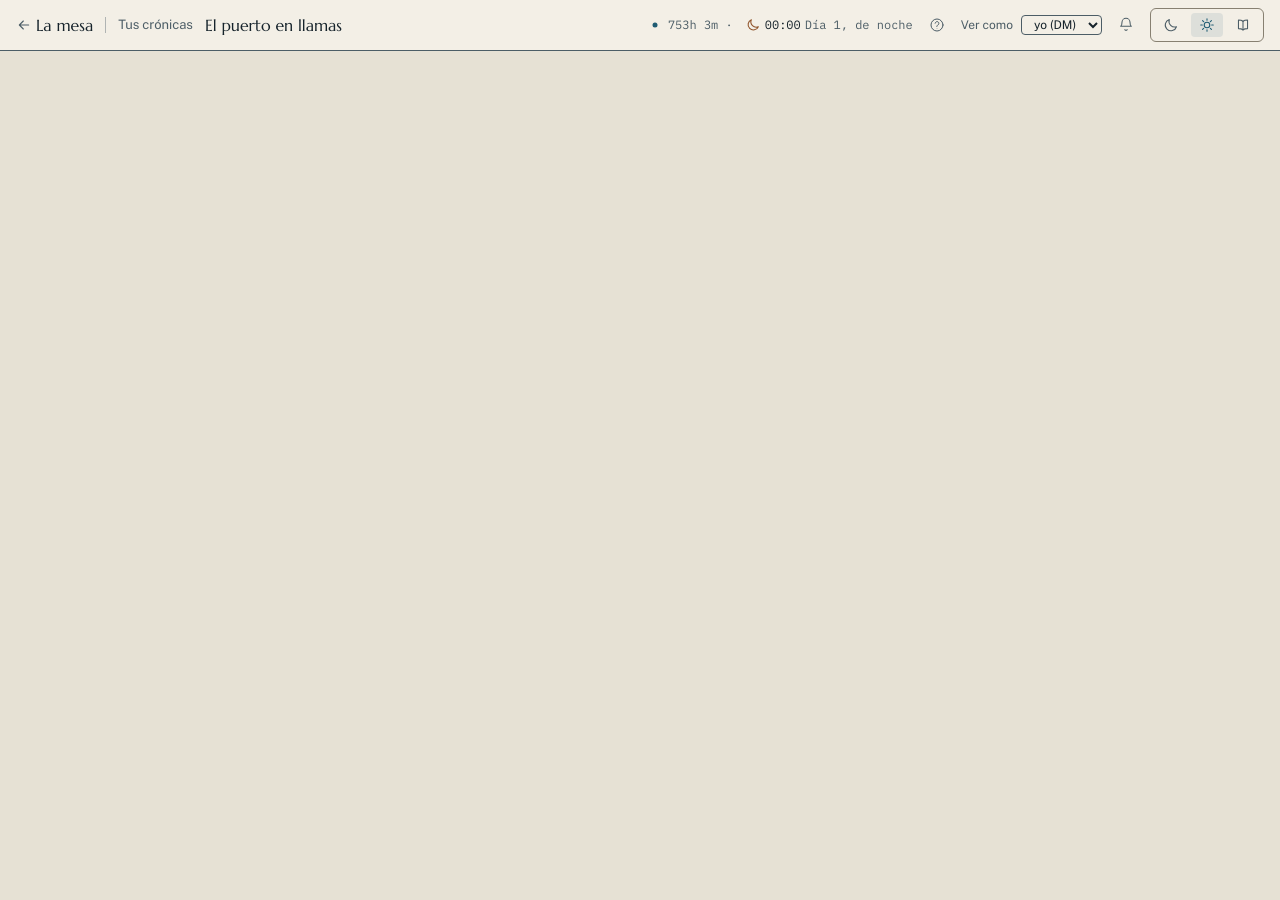
it: el diálogo de atajos › Escape lo cierra, como cualquier cajón
The width and height of the screenshot is (1280, 900).
Click the button named "Atajos de teclado": [937, 25] box [925,13,949,37]
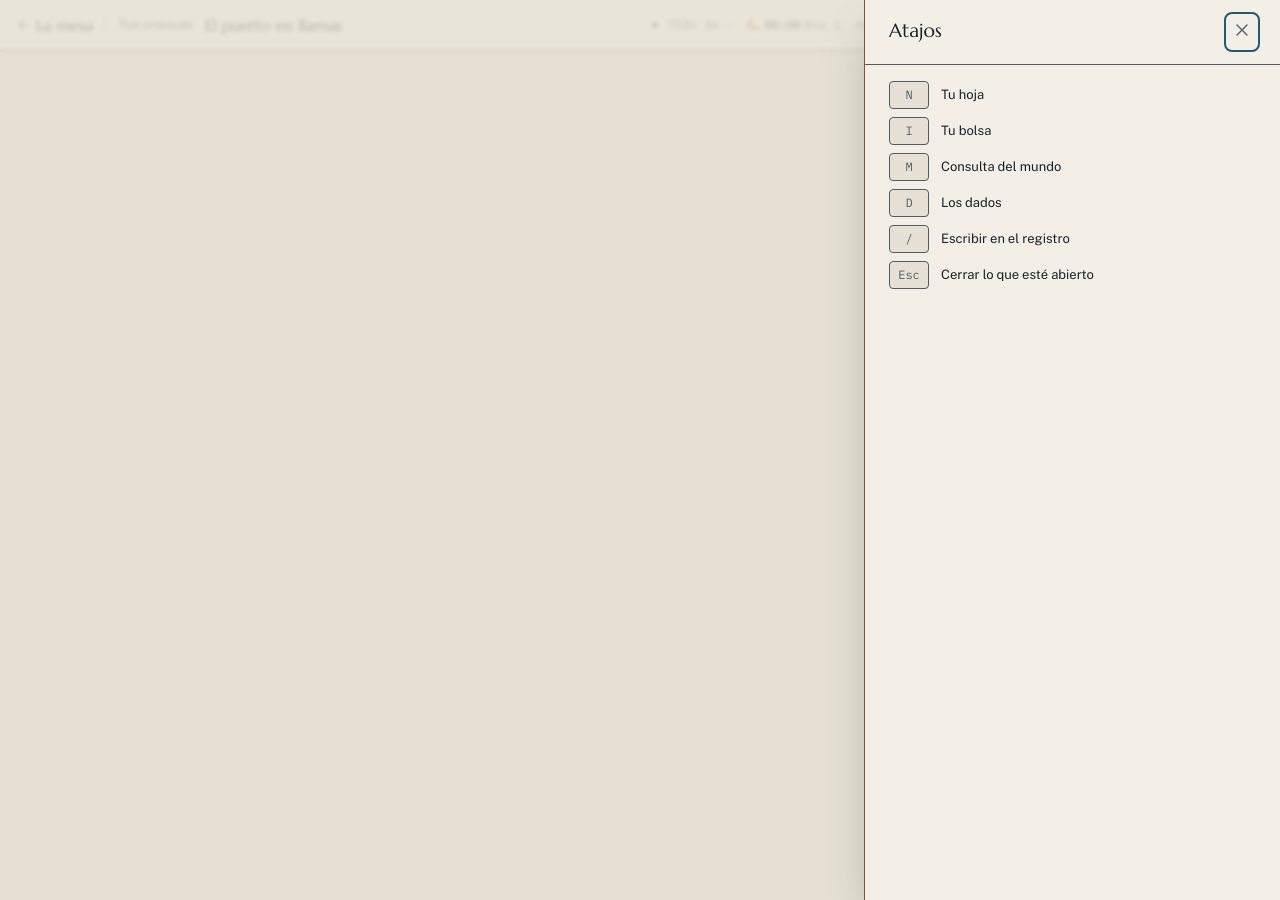
Press Escape
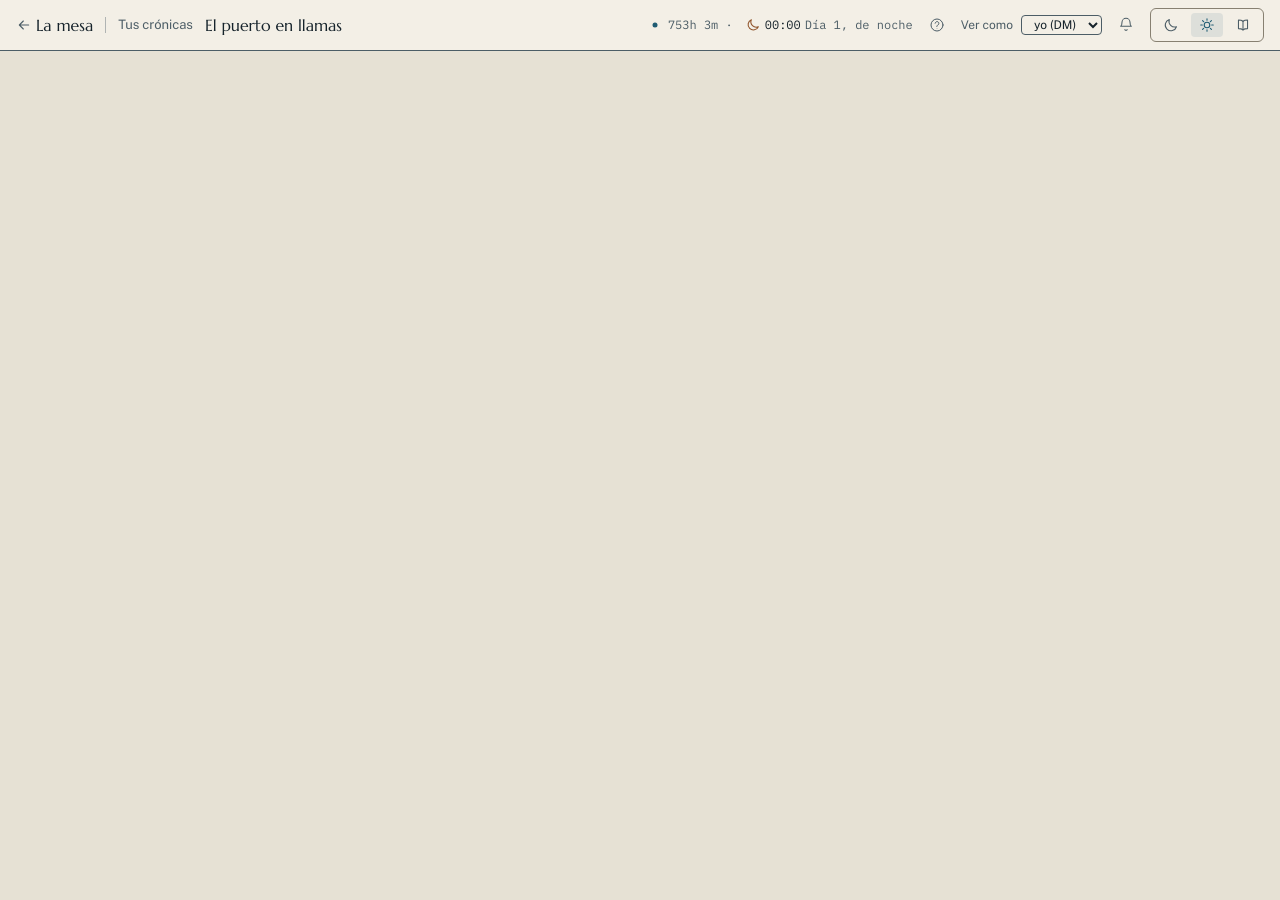
Expected: the heading "Atajos" is gone
